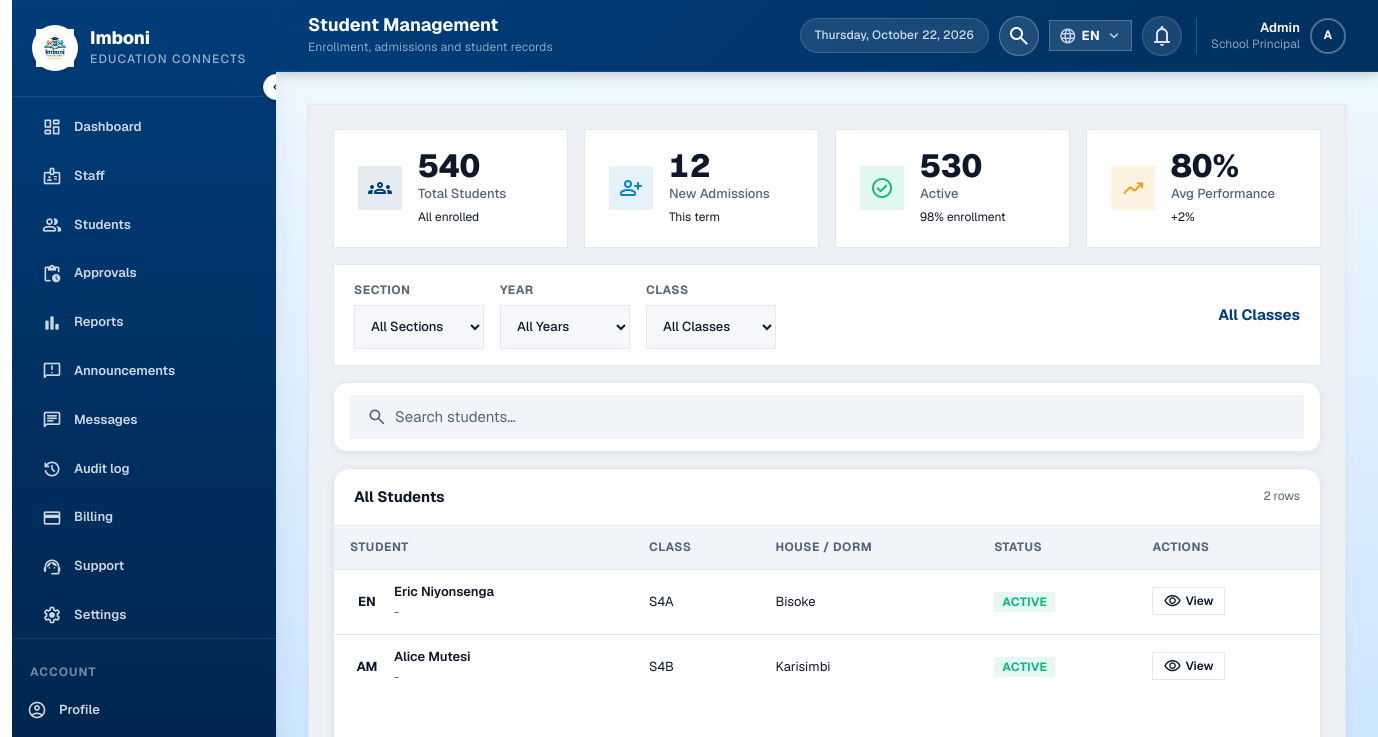
Test: AdminStudents › shows what the server returns for a search
Check: the text "Eric Niyonsenga" is shown, box x1=394 y1=582 x2=494 y2=603
Type "Alice" into the search field with placeholder "Search students…" at (841, 417), box x1=395 y1=396 x2=1287 y2=438
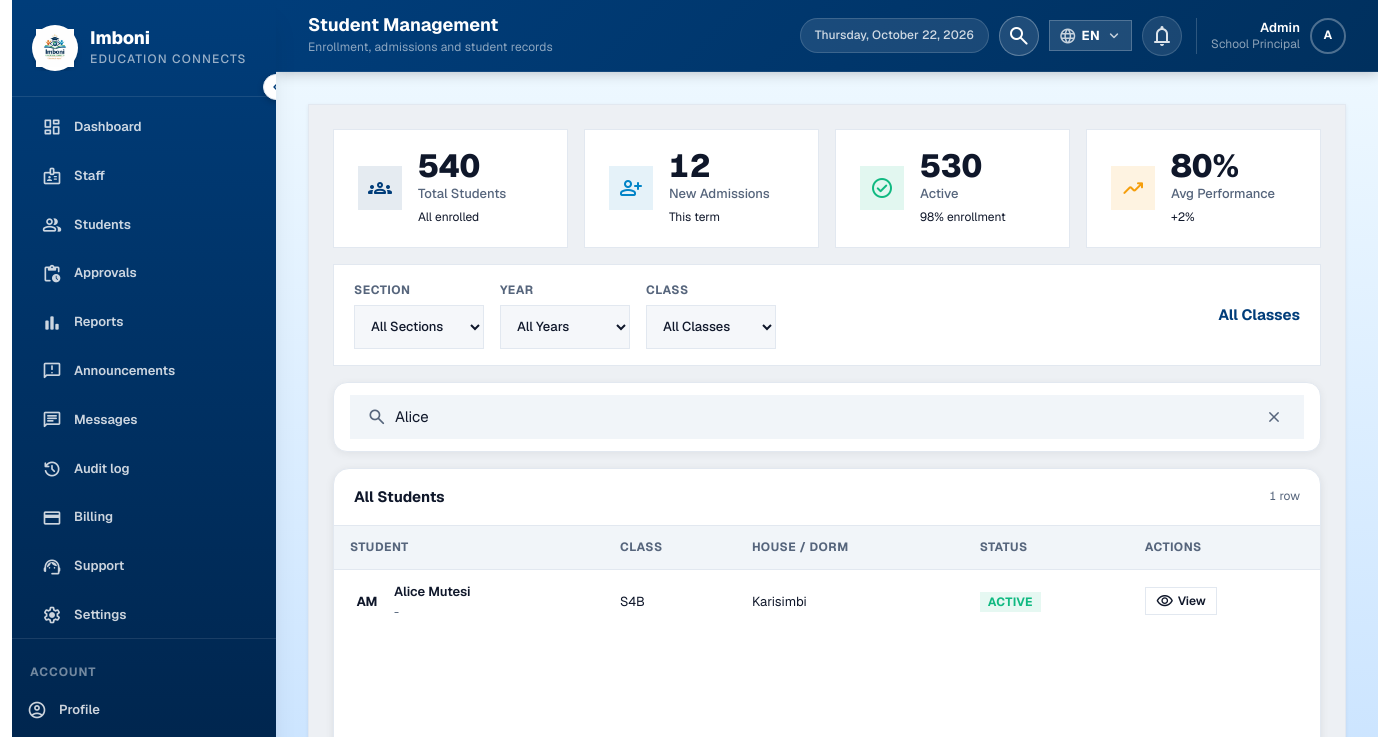
Check: the text "Alice Mutesi" is shown, box x1=394 y1=582 x2=471 y2=603
Check: the text "Eric Niyonsenga" is gone
